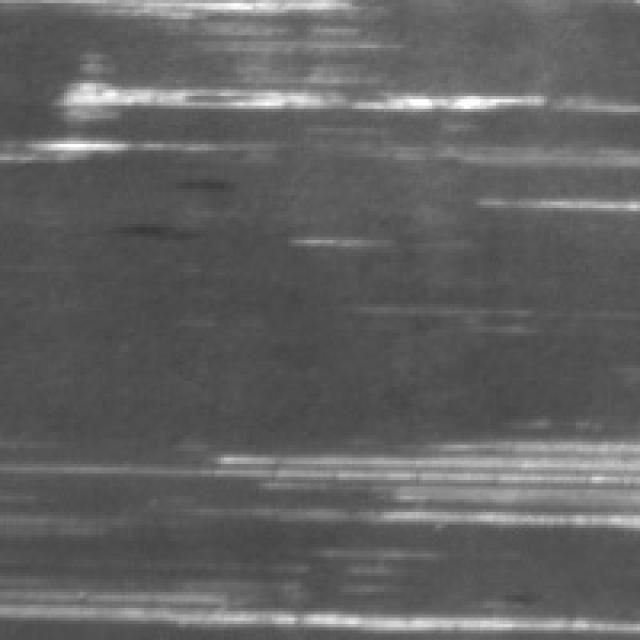scratches: (0, 54, 634, 196), (137, 426, 634, 528), (0, 580, 634, 630)
